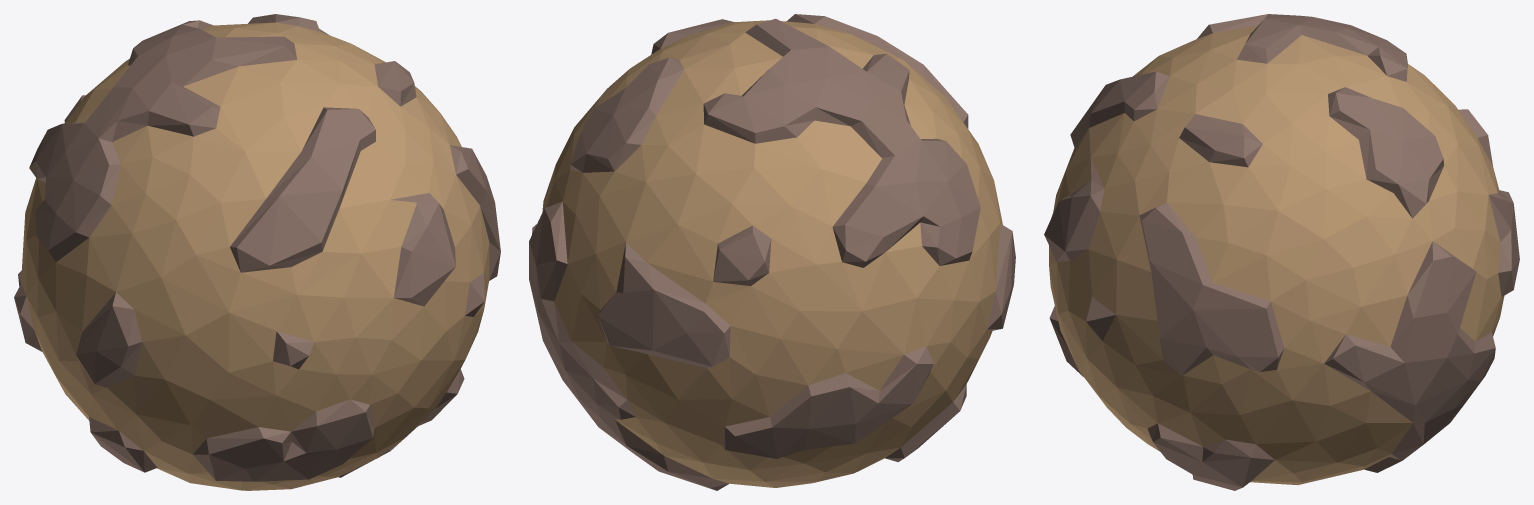
The model's file is Mercury.obj.
The picture shows the model from 3 angles, left to right: view 1: azimuth 30°, elevation 25°; view 2: azimuth 150°, elevation 25°; view 3: azimuth 270°, elevation 25°; orthographic projection.
Visible parts, largest first — view 1: Mercury; view 2: Mercury; view 3: Mercury.
Boxes of the visible parts, bbox=[...] form: Mercury: bbox=[14, 14, 500, 490]; Mercury: bbox=[529, 14, 1015, 490]; Mercury: bbox=[1044, 14, 1519, 490].
Bounding box in the file's own units: 35.82 × 35.45 × 36.01.
